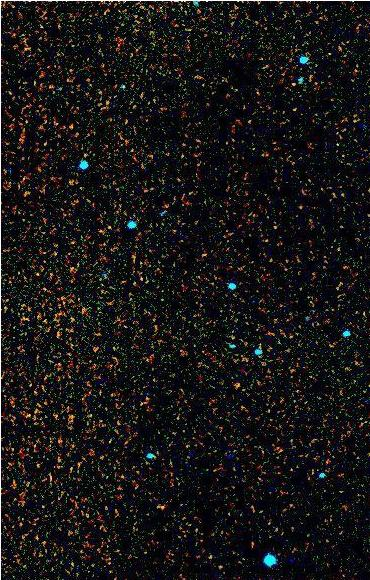star: (173, 442, 203, 472)
